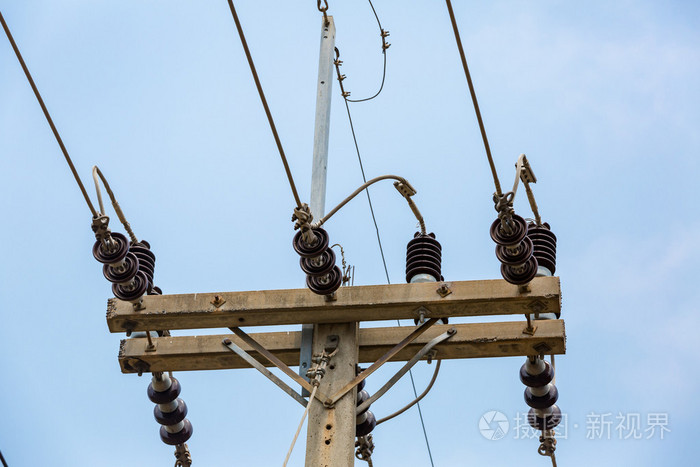insulator: (93, 230, 147, 302), (488, 214, 536, 289), (296, 227, 345, 297), (146, 378, 192, 445), (521, 359, 562, 431)
